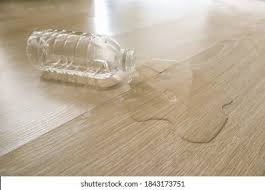Wet-floor: (135, 44, 230, 149)
